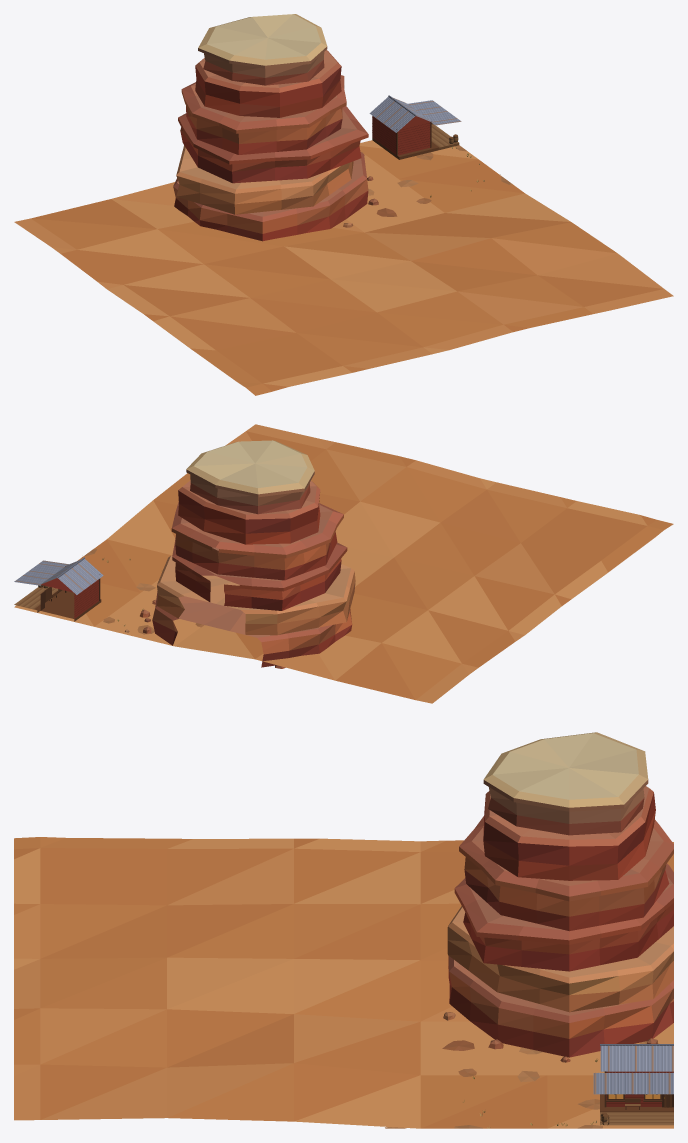
The picture shows the model from 3 angles, top to bottom: view 1: azimuth 30°, elevation 25°; view 2: azimuth 150°, elevation 25°; view 3: azimuth 270°, elevation 25°; orthographic projection. The views are drawn at different scales.
Parts seen in each view (by area): view 1: baked (×2); view 2: baked (×2); view 3: baked (×2).
Part boxes in pixels (x1,y1,x2,y2): baked (×2): [14, 14, 673, 395]; baked (×2): [14, 424, 673, 703]; baked (×2): [14, 732, 673, 1128].
Size of the model in its own units: 62.5 by 23.62 by 62.5.
